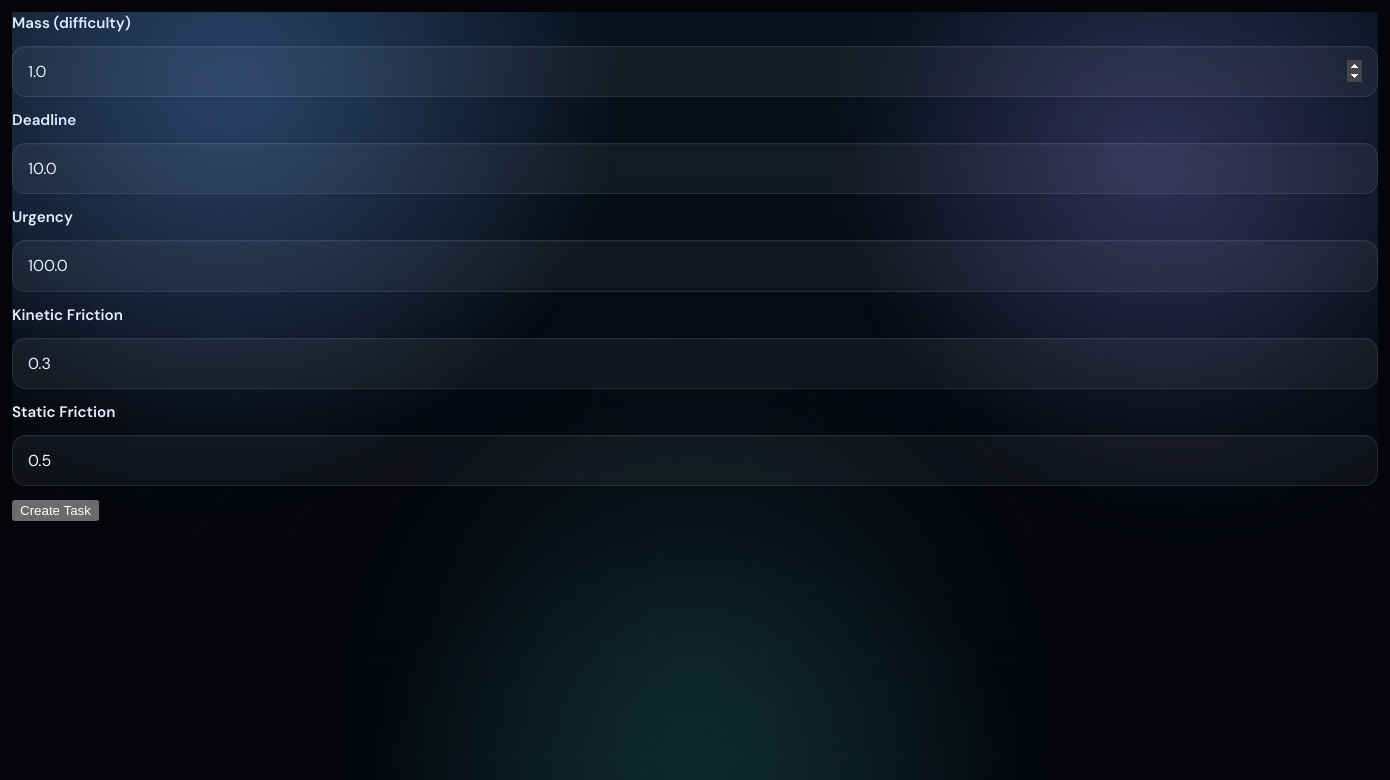
it: TaskCreationForm – form submission › resets fields to defaults after successful submission
Step 1. Replace the text in the number field with test id "input-mass" with "5.0" → (695, 72), box [12, 46, 1378, 97]
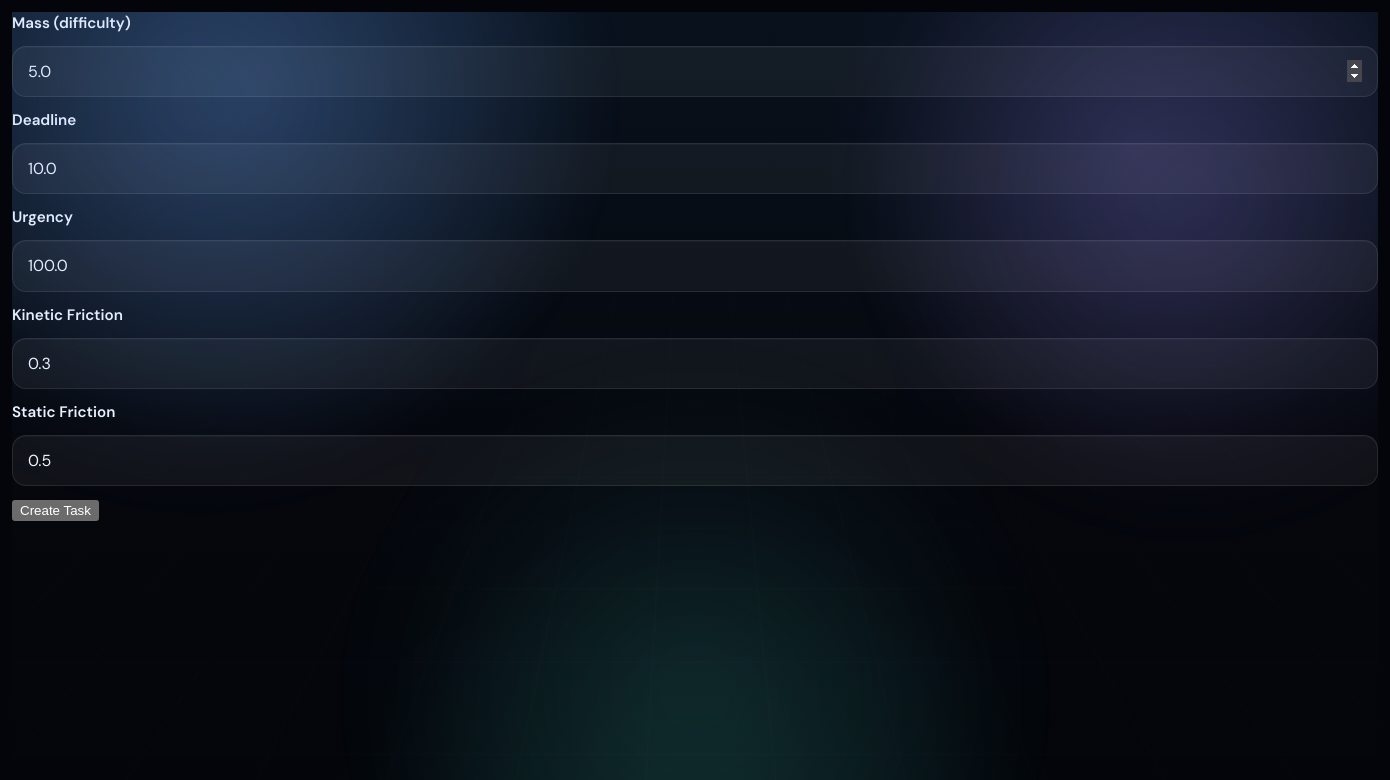
Step 2. Click the button with test id "submit-button" → (55, 511), box [12, 500, 99, 521]
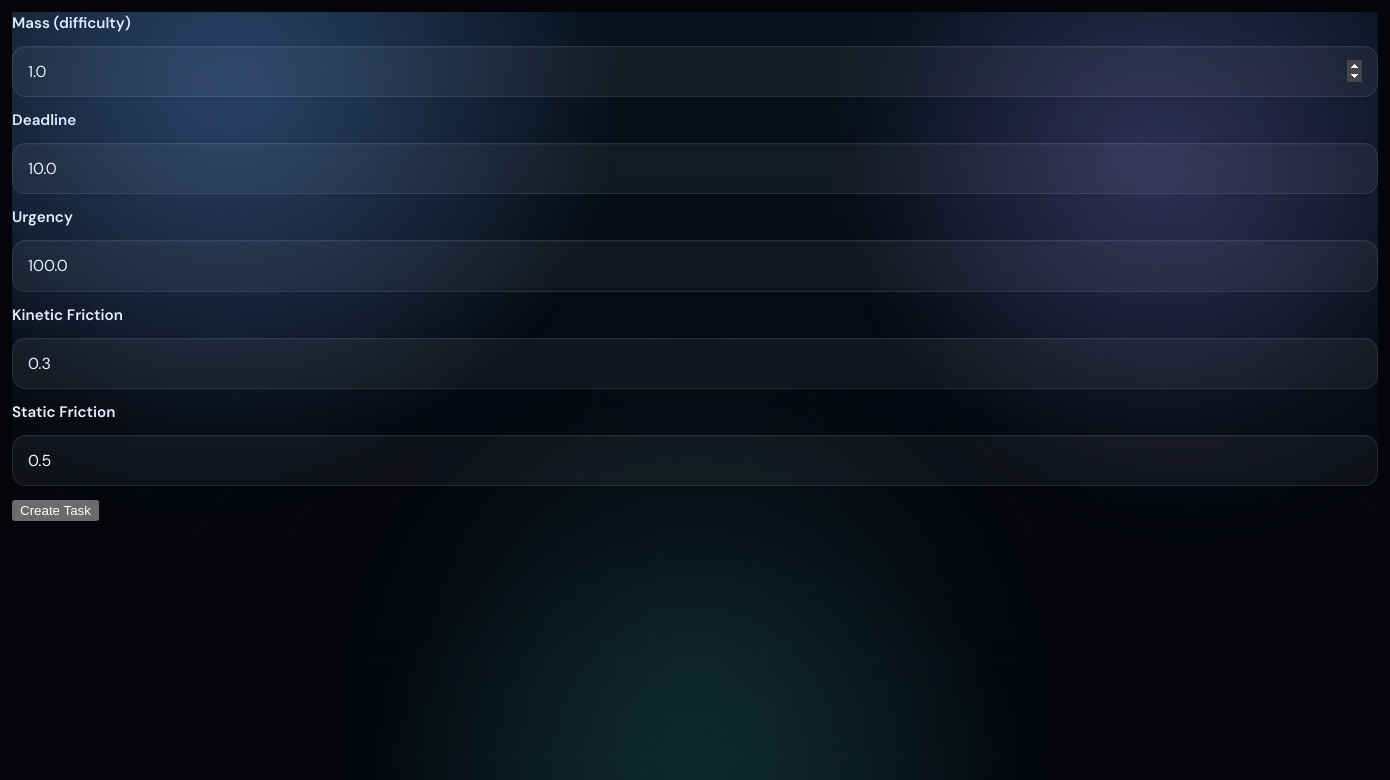
Now the number field with test id "input-mass" holds "1.0", box [12, 46, 1378, 97]
